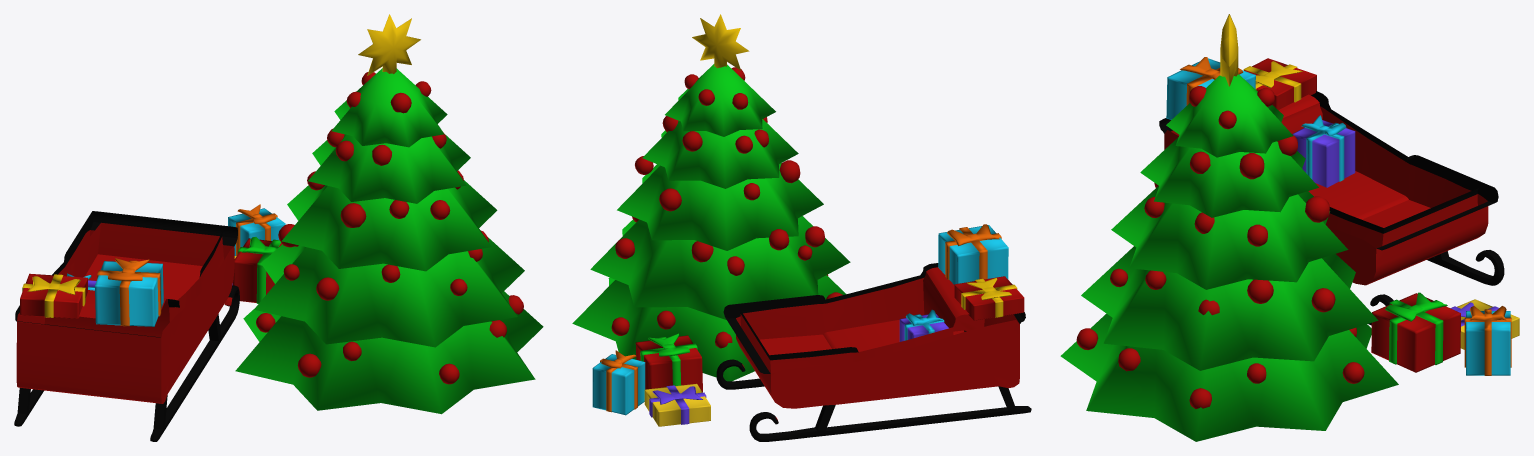
The model's file is christmas-tree.glb.
3 renders of one model, left to right at view 1: azimuth 30°, elevation 25°; view 2: azimuth 150°, elevation 25°; view 3: azimuth 270°, elevation 25°, orthographic. The views are drawn at different scales.
Parts seen in each view (by area): view 1: Cone, NurbsCurve, Sphere.001, Cube.003, Cube.004, Cube, Cylinder, Cube.002; view 2: Cone, NurbsCurve, Sphere.001, Cube.003, Cube, Cube.002, Cube.004, Cube.001, Cylinder, Cube.005; view 3: Cone, NurbsCurve, Sphere.001, Cube, Cube.005, Cube.002, Cube.004, Cube.003, Cylinder, Cube.001.
Part boxes in pixels (x1,y1,x2,y2): Cone: (235,68,543,414); NurbsCurve: (14,211,239,441); Sphere.001: (256,72,523,384); Cube.003: (95,258,163,326); Cube.004: (20,273,87,318); Cube: (233,237,281,303); Cylinder: (358,14,420,75); Cube.002: (228,204,285,255); Cone: (572,64,850,381); NurbsCurve: (716,263,1031,441); Sphere.001: (611,67,842,348); Cube.003: (938,224,1008,284); Cube: (635,333,702,392); Cube.002: (592,350,645,415); Cube.004: (954,276,1024,320); Cube.001: (644,383,710,426); Cylinder: (692,14,749,70); Cube.005: (899,309,948,341); Cone: (1060,74,1398,441); NurbsCurve: (1159,91,1504,325); Sphere.001: (1076,86,1364,408); Cube: (1371,292,1460,372); Cube.005: (1292,115,1355,187); Cube.002: (1464,306,1511,375); Cube.004: (1243,58,1316,109); Cube.003: (1166,57,1255,119); Cylinder: (1220,14,1238,86); Cube.001: (1450,299,1519,349).
Size of the model in its own units: 5.14 by 3.34 by 3.88.
